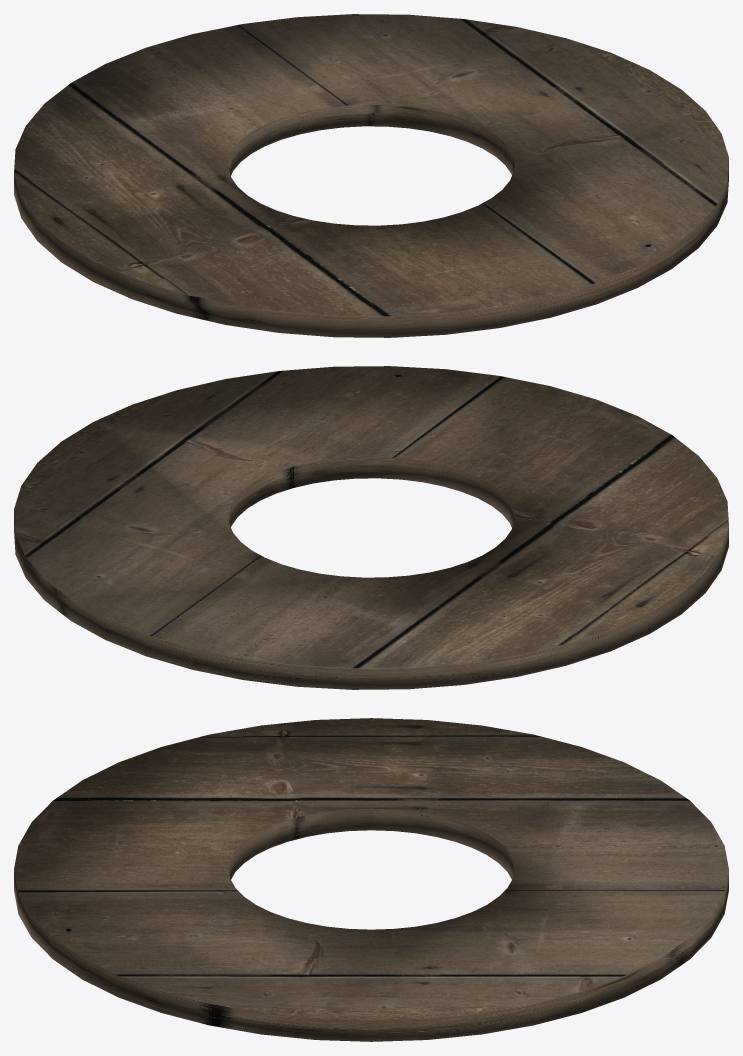
3 views of the same model, one above another, from view 1: azimuth 30°, elevation 25°; view 2: azimuth 150°, elevation 25°; view 3: azimuth 270°, elevation 25° (orthographic).
Visible parts, largest first — view 1: 円柱.001; view 2: 円柱.001; view 3: 円柱.001.
Boxes of the visible parts, x1,y1,x2,y2 form: 円柱.001: (14, 14, 728, 337); 円柱.001: (14, 366, 728, 689); 円柱.001: (14, 718, 728, 1041).
Bounding box in the file's own units: 6 × 0.2 × 6.
Materials: 1 (1 with a texture image).
